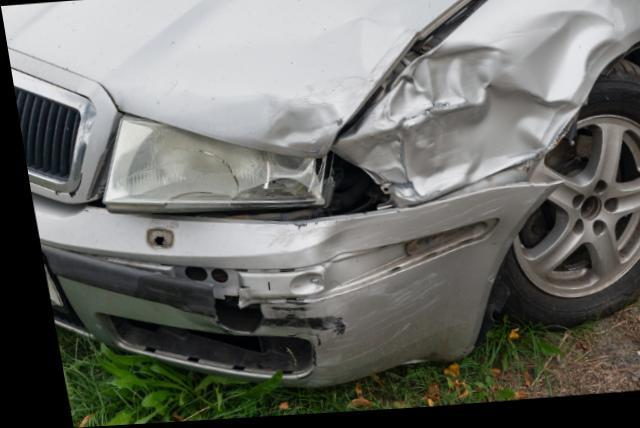dent: (336, 14, 619, 205), (208, 6, 417, 146), (308, 226, 357, 281)
dislocated part: (50, 220, 494, 313), (317, 0, 503, 156), (283, 186, 555, 231)
lamp broken: (93, 117, 330, 212)
scratch: (251, 275, 440, 375)
